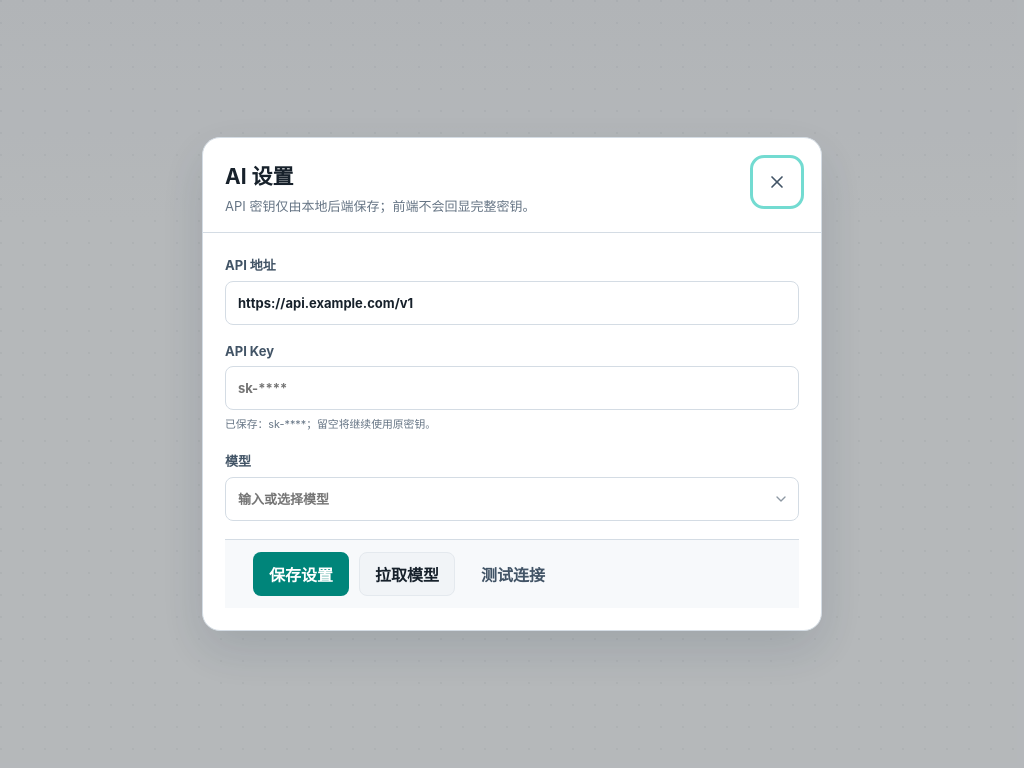
Test: AiSettingsDialog failure messages › shows backend Chinese message when model fetching fails
Click the button "拉取模型": (407, 574) [359,552,455,596]
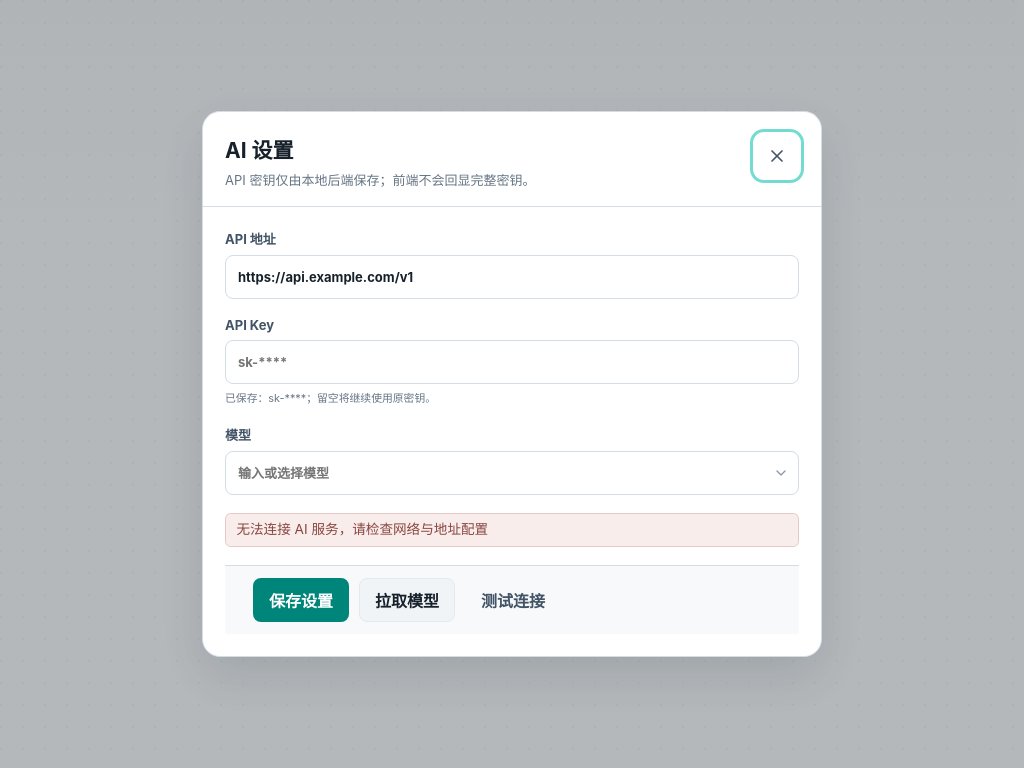
expect the message with class "ai-local-notice" shows "无法连接 AI 服务": met, box [236,521,488,537]
